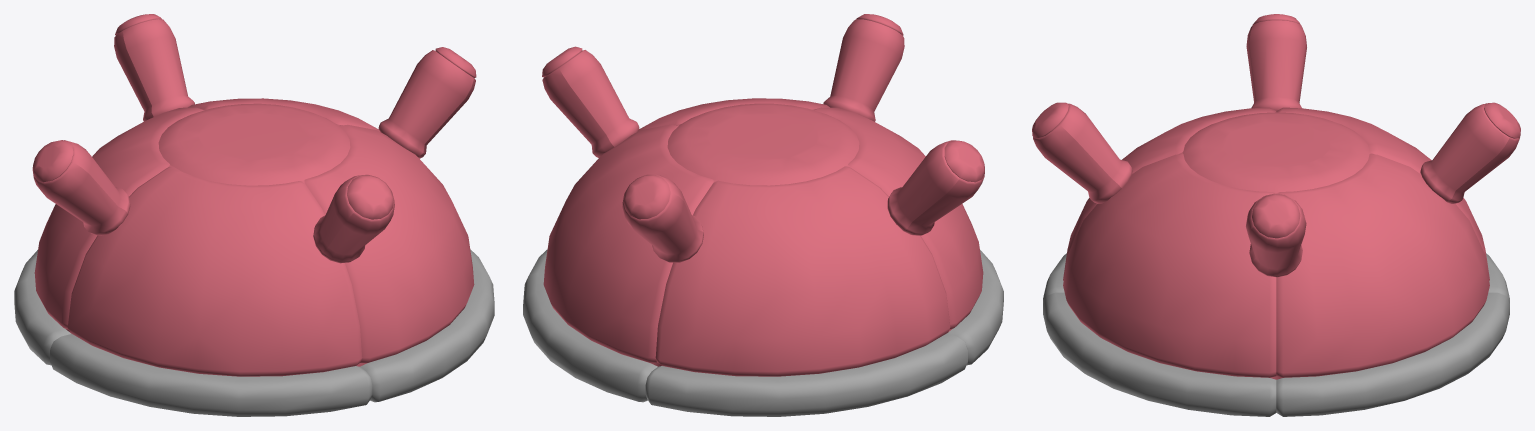
Rendered from kin_golf_udder.fbx.
3 views of the same model, side by side, from view 1: azimuth 30°, elevation 25°; view 2: azimuth 150°, elevation 25°; view 3: azimuth 270°, elevation 25° (orthographic). The views are drawn at different scales.
Parts seen in each view (by area): view 1: env_gold_udder; view 2: env_gold_udder; view 3: env_gold_udder.
Part boxes in pixels (x1=…): env_gold_udder: x1=14, y1=14, x2=494, y2=416; env_gold_udder: x1=523, y1=14, x2=1003, y2=416; env_gold_udder: x1=1032, y1=14, x2=1520, y2=416.
Size of the model in its own units: 24.79 by 13.33 by 24.79.
